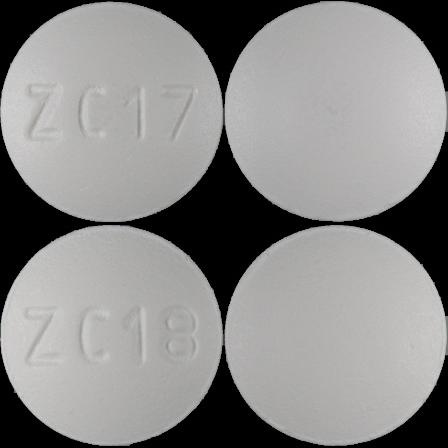68084-046: (0, 0, 224, 224)
